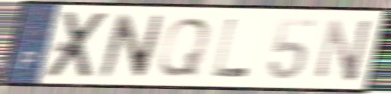5: (266, 17, 319, 82)
L: (209, 17, 252, 80)
N: (95, 12, 167, 81), (314, 17, 376, 84)
Q: (154, 15, 214, 79)
X: (42, 10, 113, 81)
